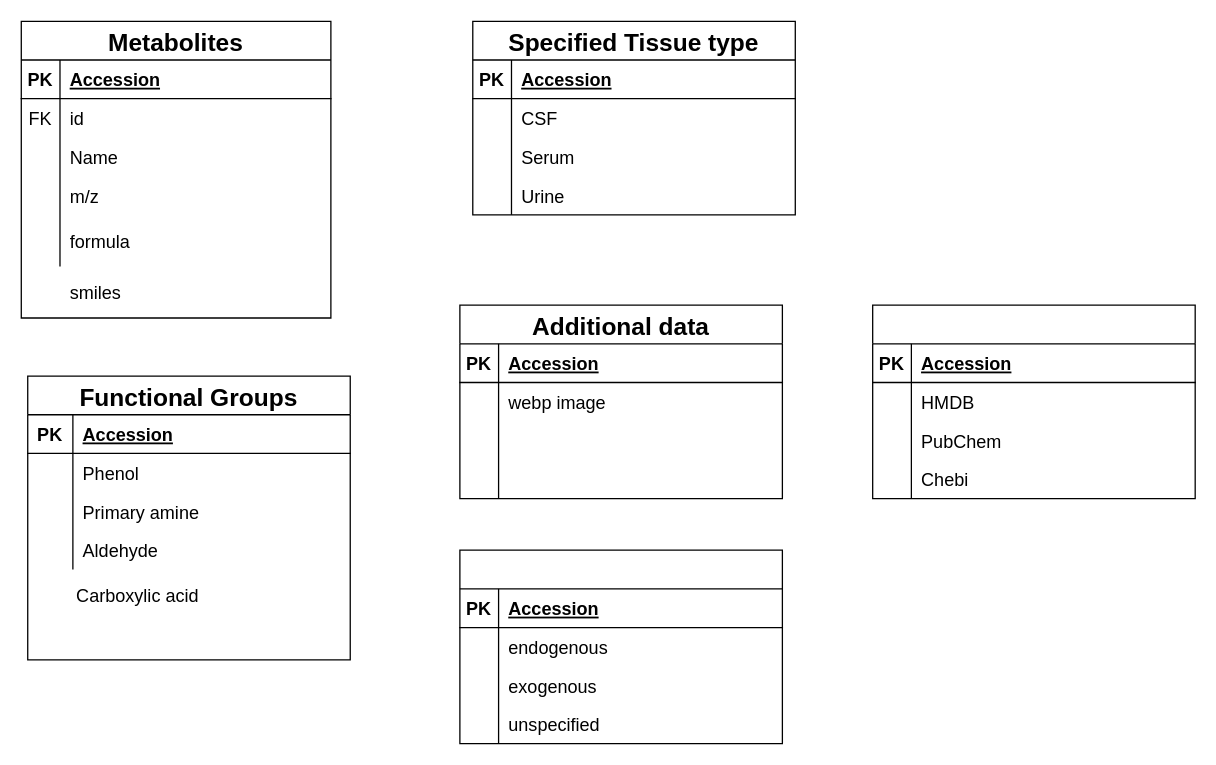
The diagram is 1216 pixels wide and 765 high, and some of its shapes have lost their labels. Each missing label, with the box of its shape:
Accessions: (871, 304, 1195, 499)
Endogeneity: (459, 549, 782, 744)
